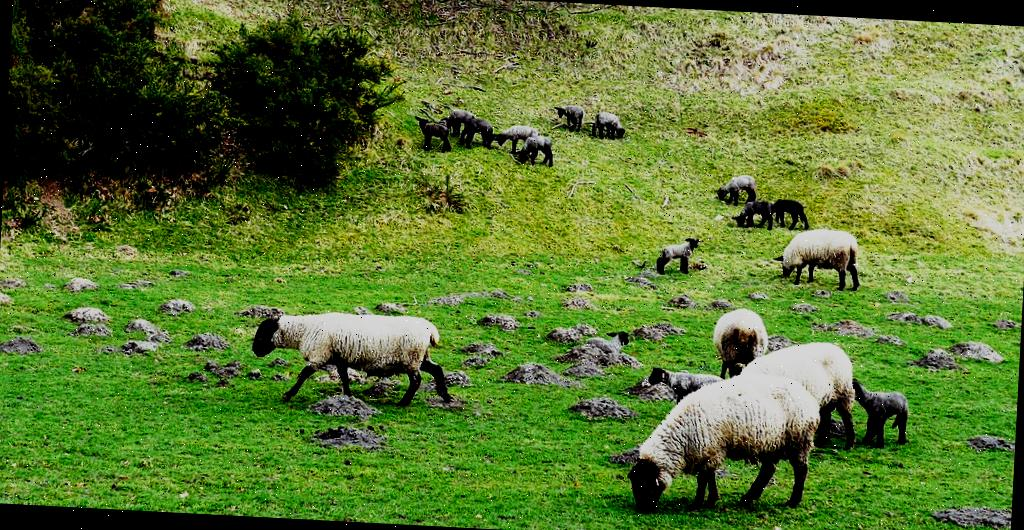Sheep: (628, 368, 822, 524), (248, 309, 450, 408), (736, 341, 856, 446), (773, 230, 861, 292), (712, 304, 766, 382), (847, 384, 908, 452), (650, 369, 720, 403), (512, 131, 560, 173), (410, 114, 454, 154), (655, 236, 698, 274), (494, 122, 542, 156), (459, 114, 495, 154), (714, 174, 758, 204), (732, 200, 774, 228), (440, 108, 476, 140), (775, 201, 809, 229), (552, 105, 582, 130), (596, 114, 624, 139)
